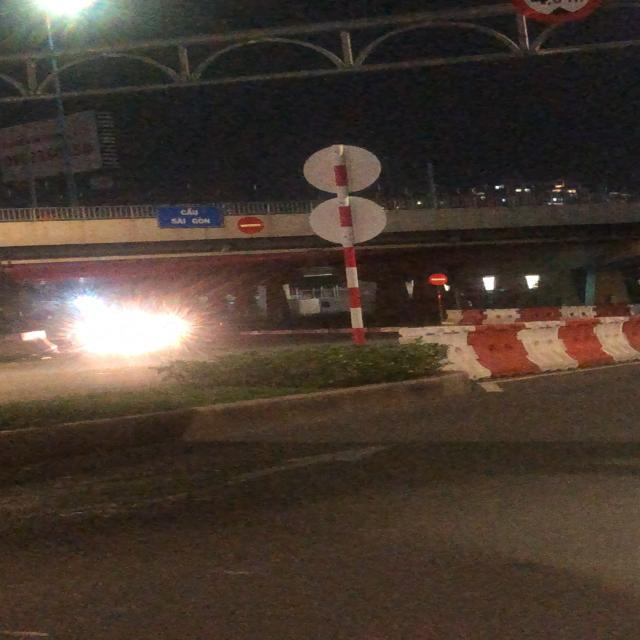Bien bao cam di nguoc chieu: (234, 215, 267, 235), (426, 270, 449, 286)
